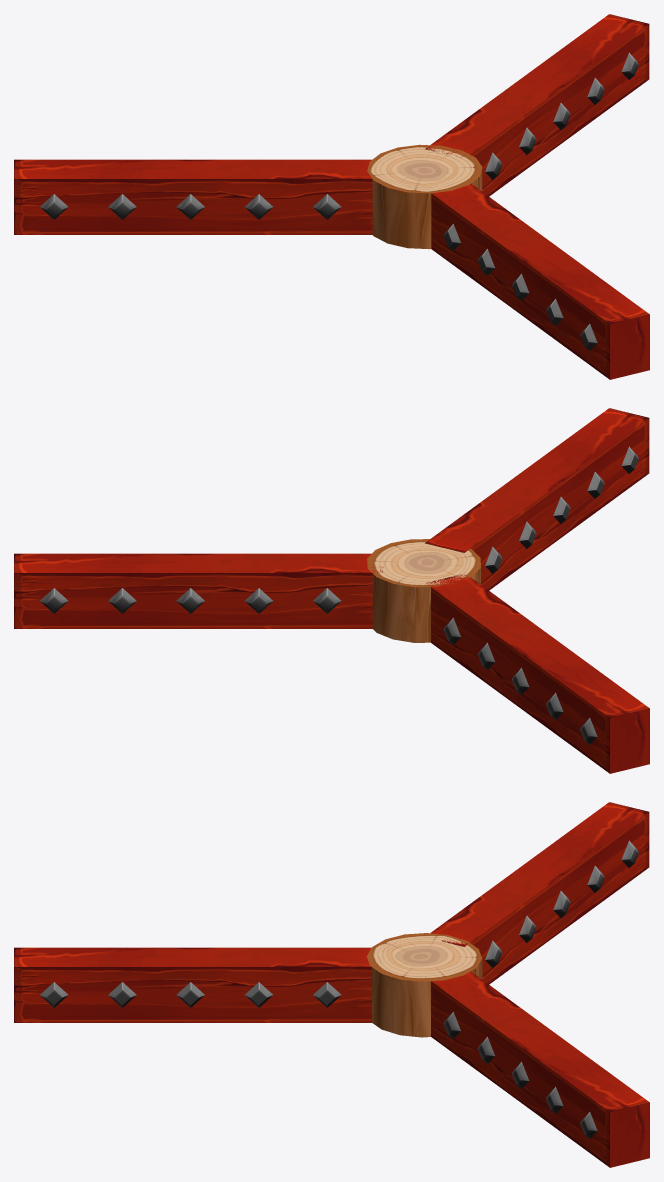
The model's file is three_blade_red_03.fbx.
3 renders of one model, top to bottom at view 1: azimuth 30°, elevation 25°; view 2: azimuth 150°, elevation 25°; view 3: azimuth 270°, elevation 25°, orthographic.
Visible parts, largest first — view 1: Blade_55, Blade_57, Blade_56, wood_center_17; view 2: Blade_56, Blade_55, Blade_57, wood_center_17; view 3: Blade_57, Blade_56, Blade_55, wood_center_17.
Part boxes in pixels (x1,y1,x2,y2): Blade_55: (14, 159, 372, 234); Blade_57: (431, 183, 649, 379); Blade_56: (425, 14, 649, 196); wood_center_17: (367, 144, 482, 249); Blade_56: (14, 553, 383, 628); Blade_55: (426, 574, 649, 773); Blade_57: (425, 408, 649, 590); wood_center_17: (367, 539, 480, 642); Blade_57: (14, 947, 371, 1022); Blade_56: (431, 971, 649, 1167); Blade_55: (430, 802, 649, 984); wood_center_17: (366, 933, 482, 1037).
Size of the model in its own units: 478 by 40 by 414.
